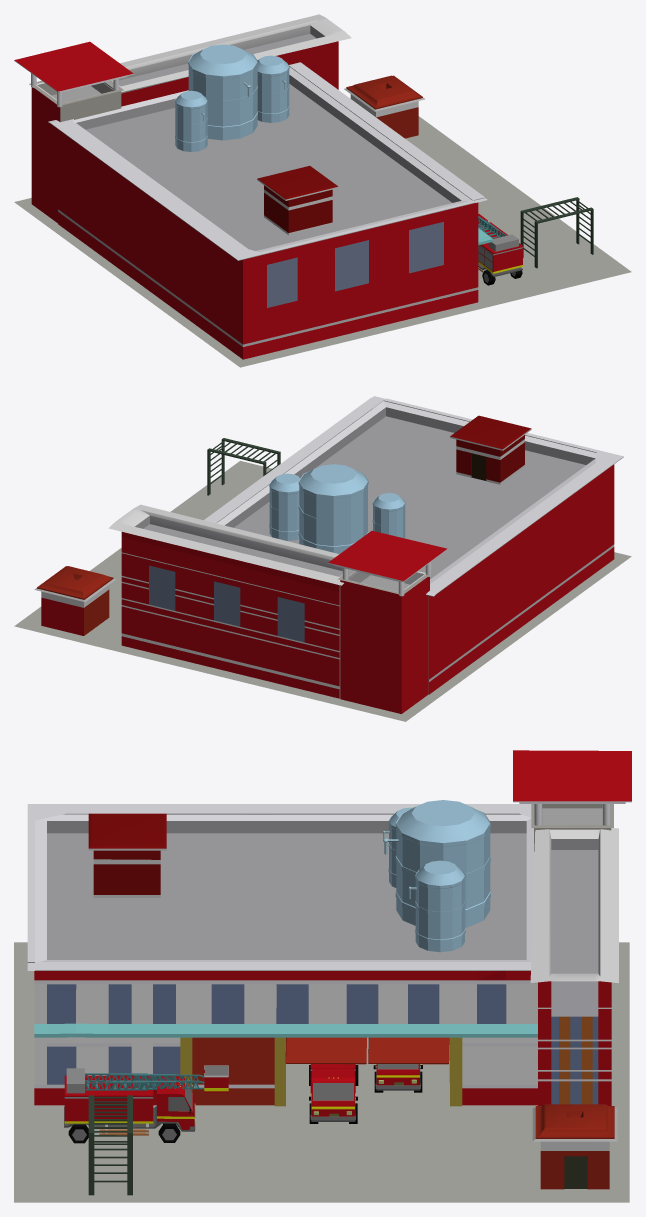
File: xiaofangdui.fbx
3 views of the same model, one above another, from view 1: azimuth 30°, elevation 25°; view 2: azimuth 150°, elevation 25°; view 3: azimuth 270°, elevation 25° (orthographic). The views are drawn at different scales.
Parts seen in each view (by area): view 1: polySurface1939, pPlane1, polySurface1579, pCylinder27, polySurface1576, pCube145, polySurface1573, polySurface1560, pCylinder28, pCylinder29, polySurface1938, polySurface1808; view 2: polySurface1939, polySurface1579, polySurface1576, pPlane1, pCylinder27, polySurface1560, pCube145, polySurface1573, pCylinder28, pCylinder29; view 3: polySurface1939, pPlane1, polySurface1579, pCylinder27, polySurface1560, polySurface1573, pCube145, polySurface1938, pCylinder28, polySurface1808, polySurface1519, polySurface1950 (+4 smaller).
Boxes of the visible parts, box(x1,y1,x2,y2) form: polySurface1939: box(48, 62, 492, 359); pPlane1: box(14, 116, 631, 367); polySurface1579: box(103, 14, 351, 106); pCylinder27: box(188, 44, 257, 140); polySurface1576: box(29, 80, 123, 222); pCube145: box(257, 166, 338, 235); polySurface1573: box(14, 41, 133, 93); polySurface1560: box(344, 75, 425, 138); pCylinder28: box(257, 55, 289, 122); pCylinder29: box(175, 90, 207, 151); polySurface1938: box(478, 214, 522, 285); polySurface1808: box(478, 216, 518, 251); polySurface1939: box(204, 396, 623, 694); polySurface1579: box(108, 504, 358, 698); polySurface1576: box(338, 570, 432, 713); pPlane1: box(14, 461, 631, 721); pCylinder27: box(298, 464, 368, 553); polySurface1560: box(34, 566, 115, 635); pCube145: box(450, 415, 531, 484); polySurface1573: box(328, 530, 447, 582); pCylinder28: box(269, 473, 300, 540); pCylinder29: box(372, 493, 405, 538); polySurface1939: box(27, 804, 537, 1106); pPlane1: box(14, 942, 629, 1202); polySurface1579: box(530, 828, 618, 1105); pCylinder27: box(383, 800, 490, 927); polySurface1560: box(532, 1104, 617, 1189); polySurface1573: box(513, 750, 631, 803); pCube145: box(88, 813, 166, 897); polySurface1938: box(64, 1075, 195, 1143); pCylinder28: box(408, 860, 465, 952); polySurface1808: box(66, 1065, 228, 1093); polySurface1519: box(309, 1064, 358, 1123); polySurface1950: box(368, 1037, 449, 1064).
Bounding box in the file's own units: 50 × 20.2 × 50.18.
